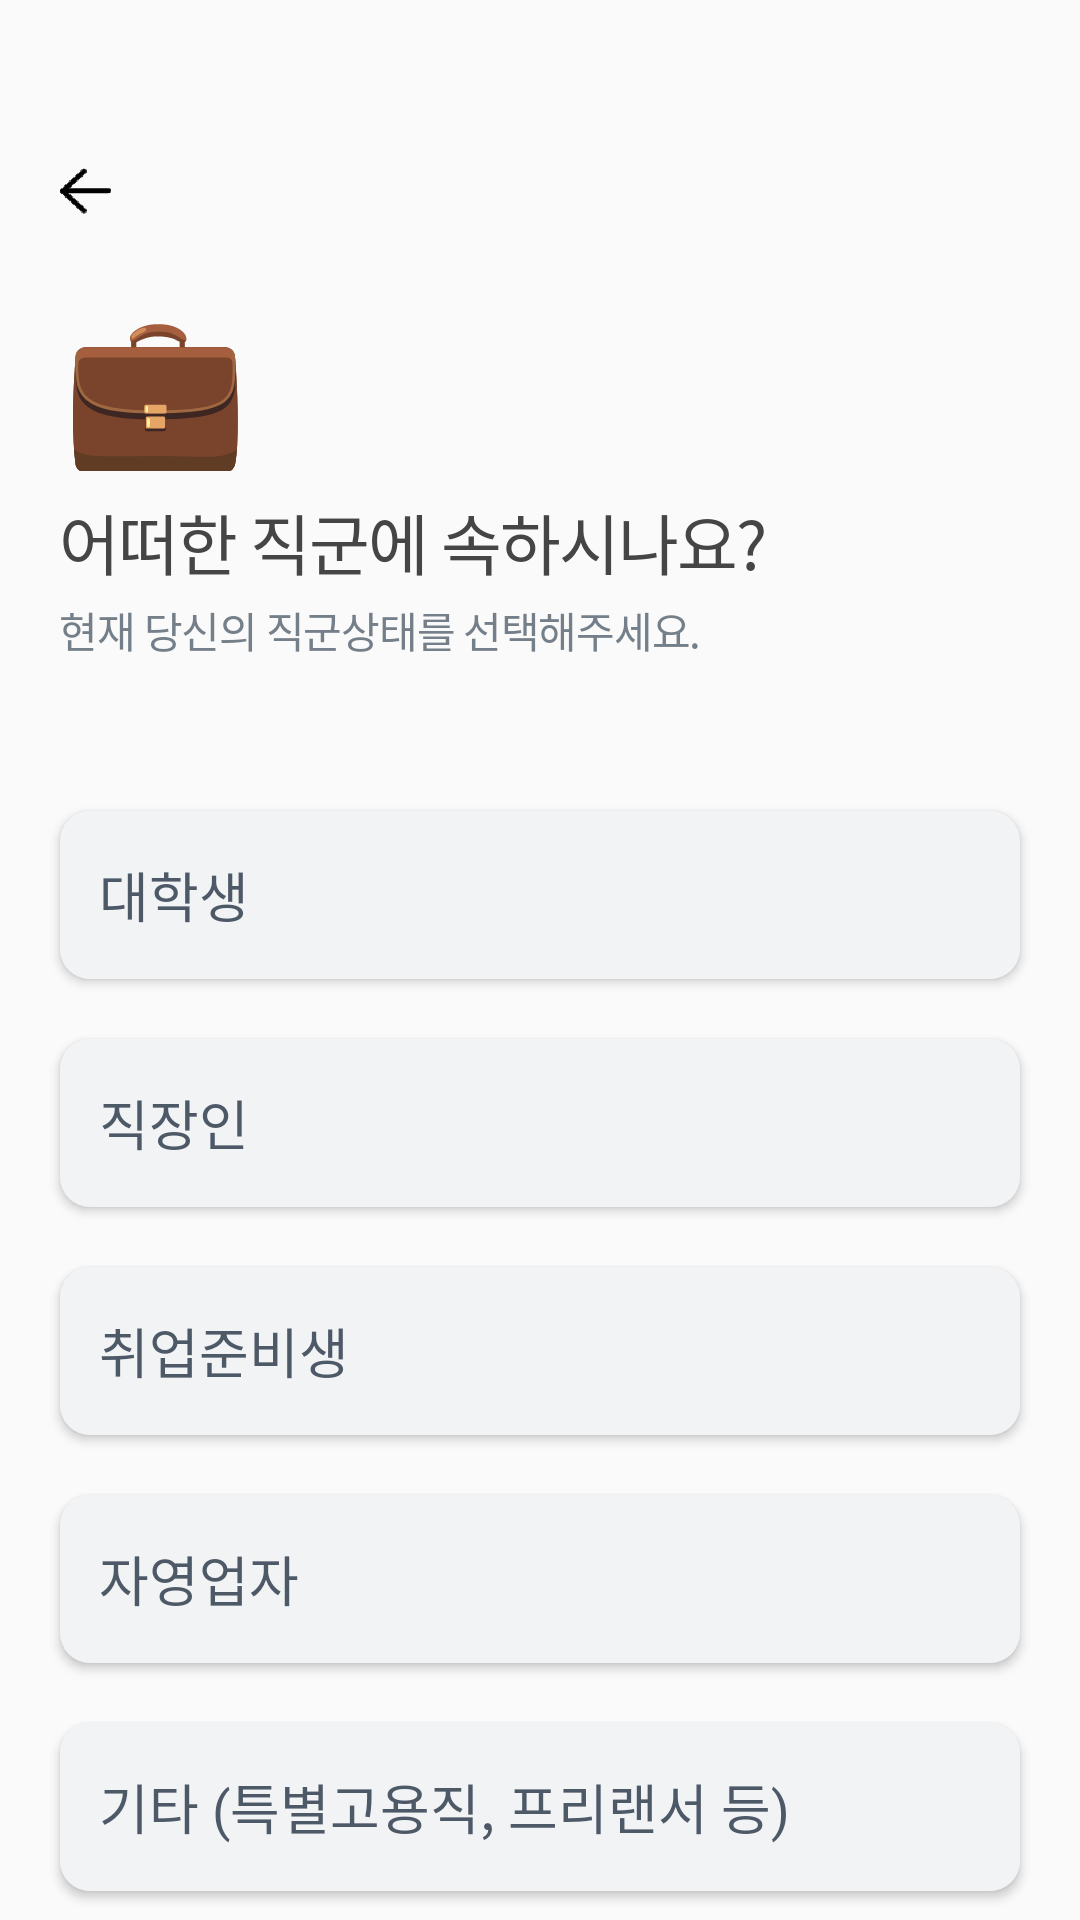

Named icons in this screenshot (1080px×1920px) and their bounding boxes, (x1, y1, x2, y2):
before: (60, 168, 111, 214)
